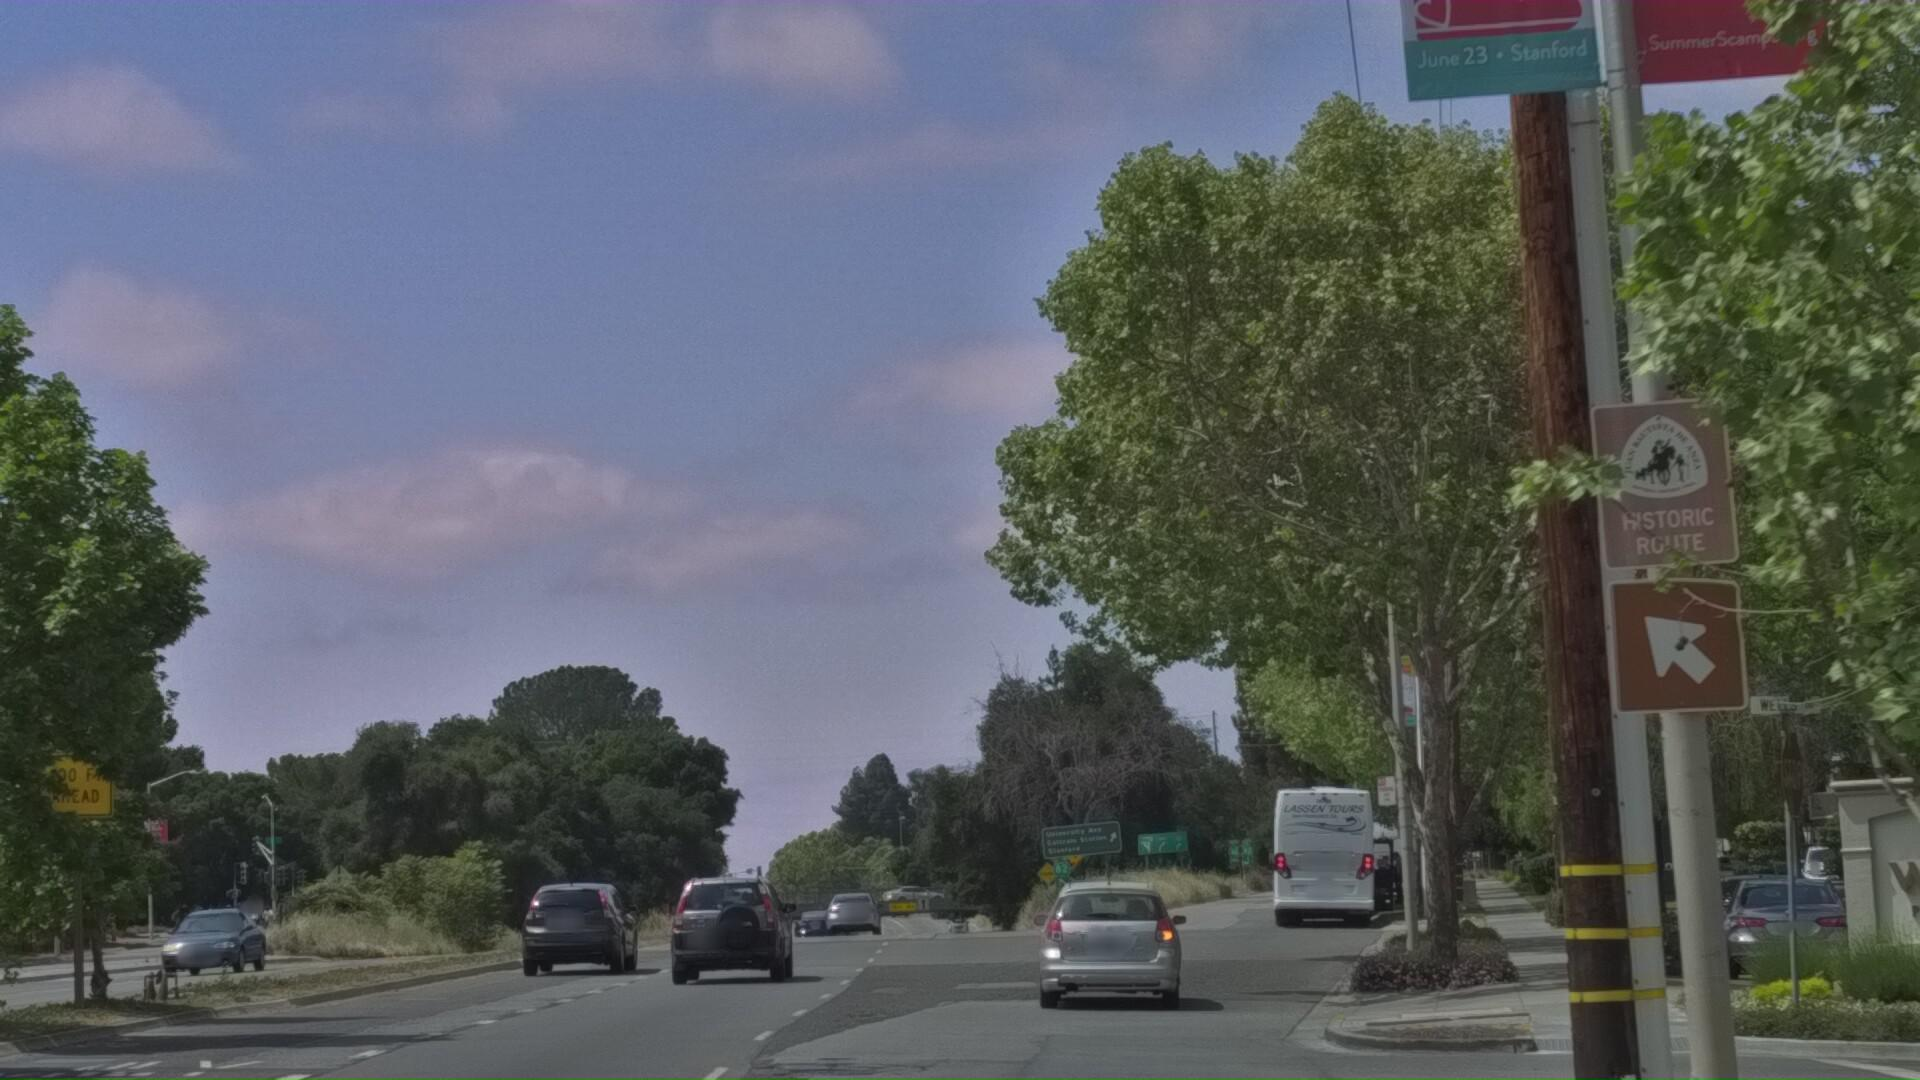car: (1022, 955, 1196, 1080), (1717, 961, 1873, 1080), (667, 971, 800, 1080), (520, 996, 647, 1080), (145, 1015, 257, 1080)
